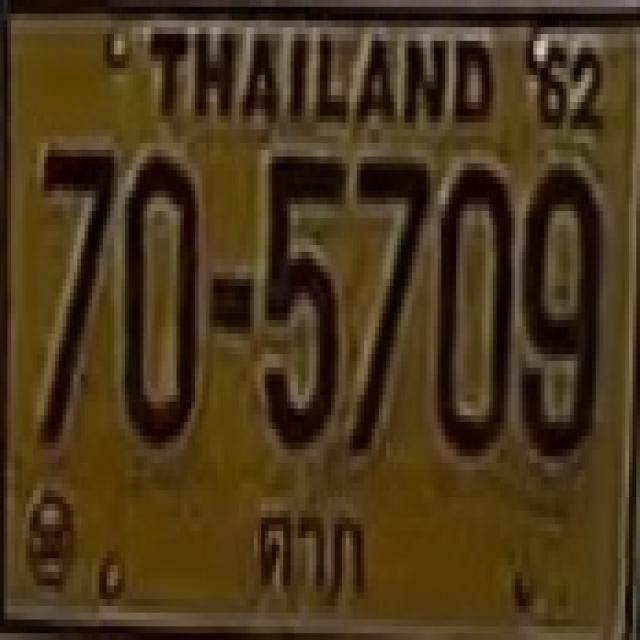0: (434, 156, 508, 450), (121, 150, 195, 442)
5: (261, 150, 342, 442)
7: (349, 153, 426, 446), (39, 143, 112, 443)
9: (520, 163, 598, 450)
TAK: (248, 486, 379, 618)
